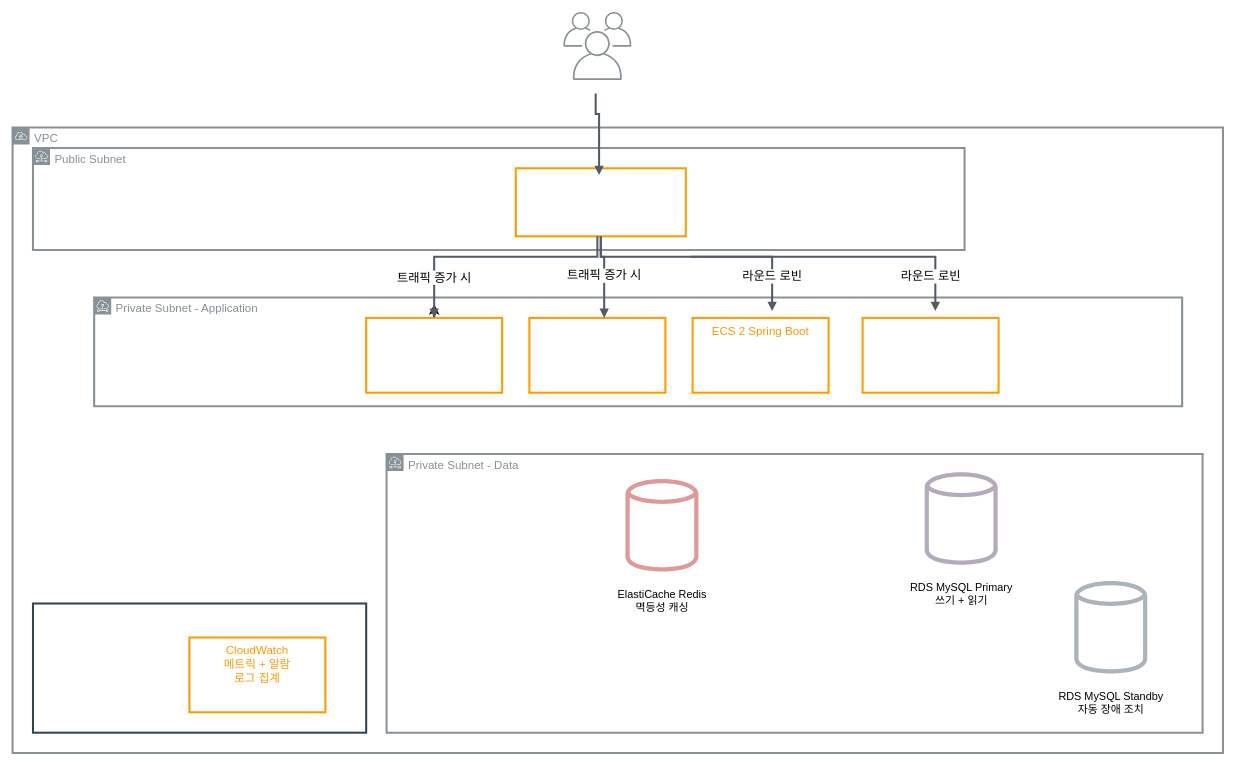
Image size: 1236x766. Some labels were removed from this diagram. The centre of each missing label's shape, as x and y in pixels:
Application Load Balancer: point (600, 202)
ECS 1 Spring Boot: point (930, 355)
ECS 3 Auto Scaled: point (597, 355)
ECS 4 Auto Scaled: point (434, 355)
users: point (597, 46)
